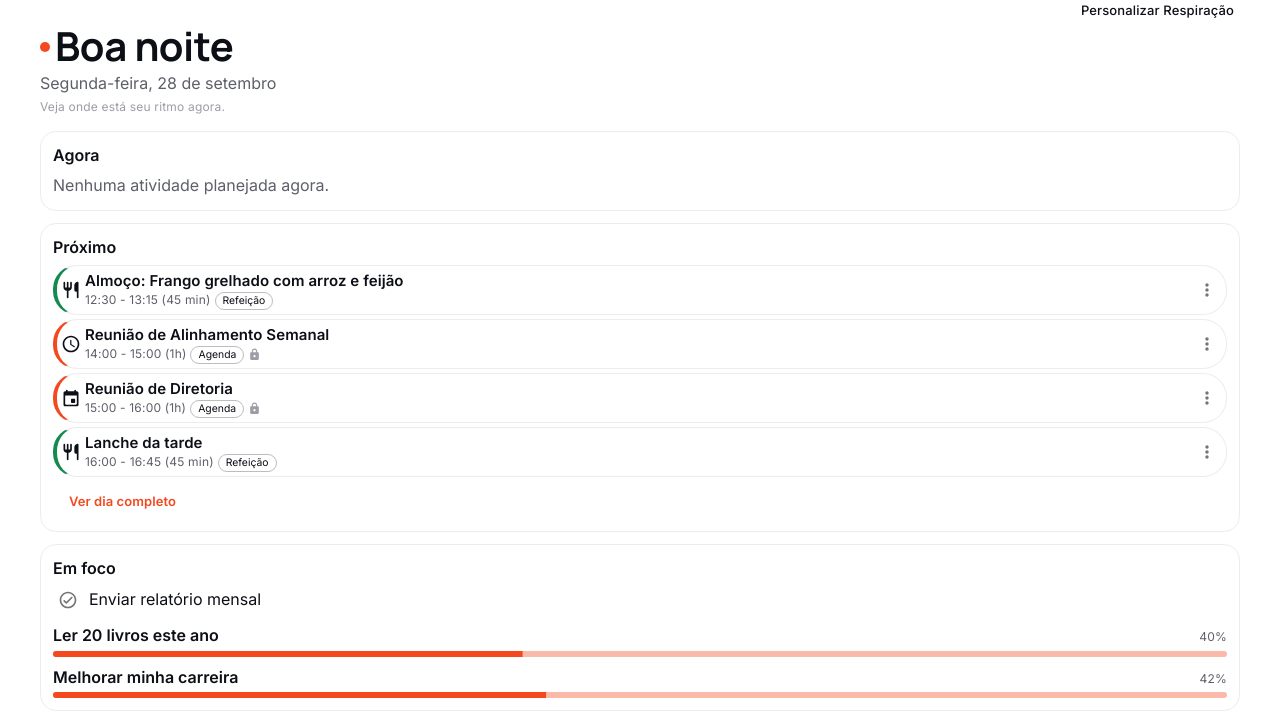
Test: RespirationPage › opens the personalization dialog
Expected: the heading "Agora" is shown, [53,145,100,165]
What coordinates should you click on to do the following:
click the button "Personalizar Respiração"
I would click on:
 (1157, 10)
Its box is [1075,0,1240,20].
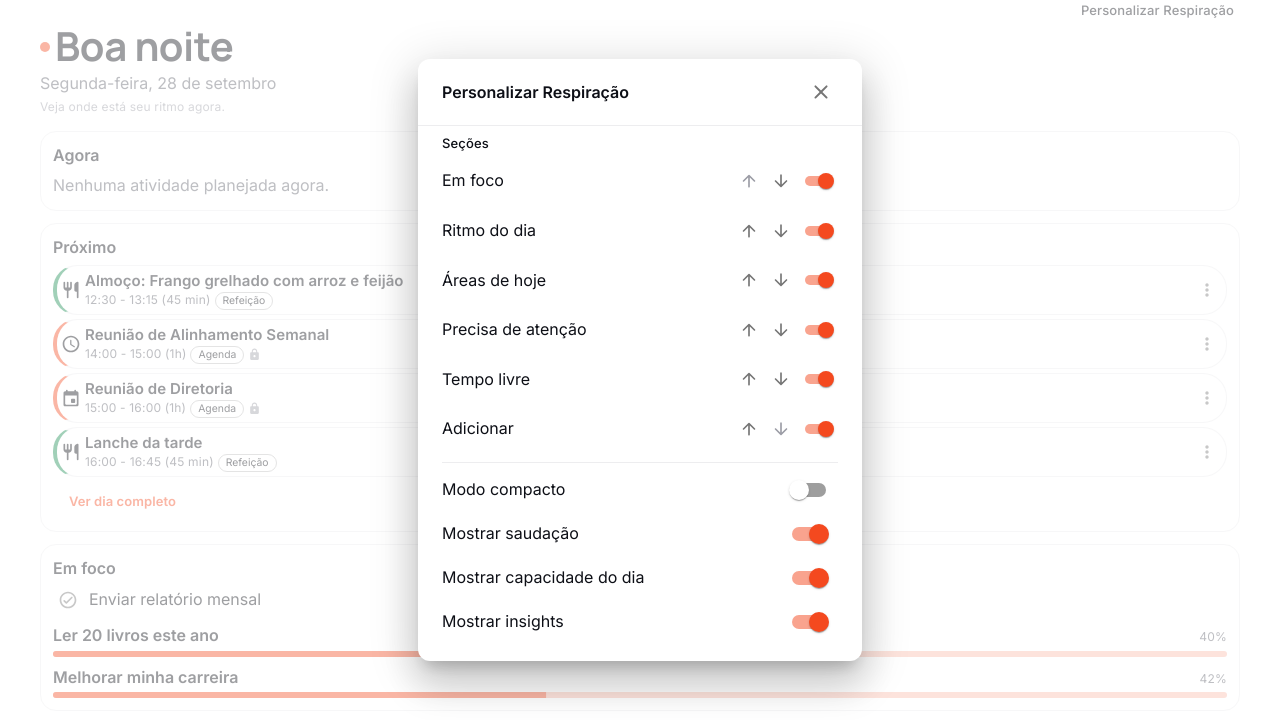
Now the dialog is shown, box [418,59,862,661]
Now the text "Seções" is shown, box [442,135,489,151]
